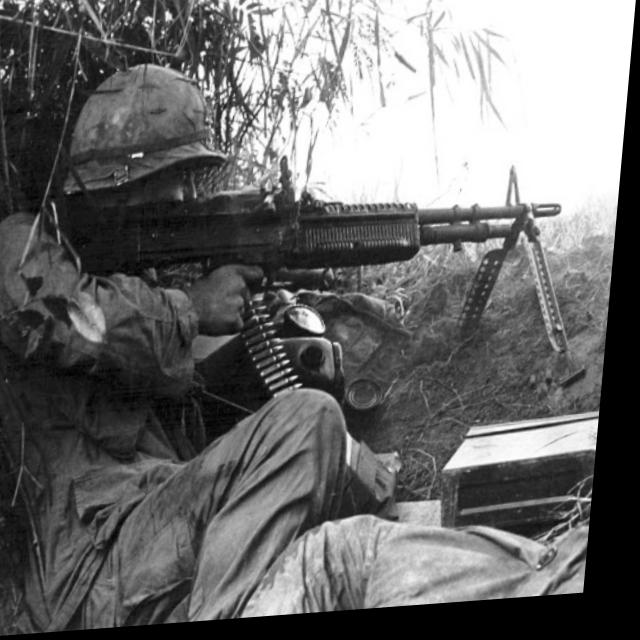other: (0, 40, 436, 618)
